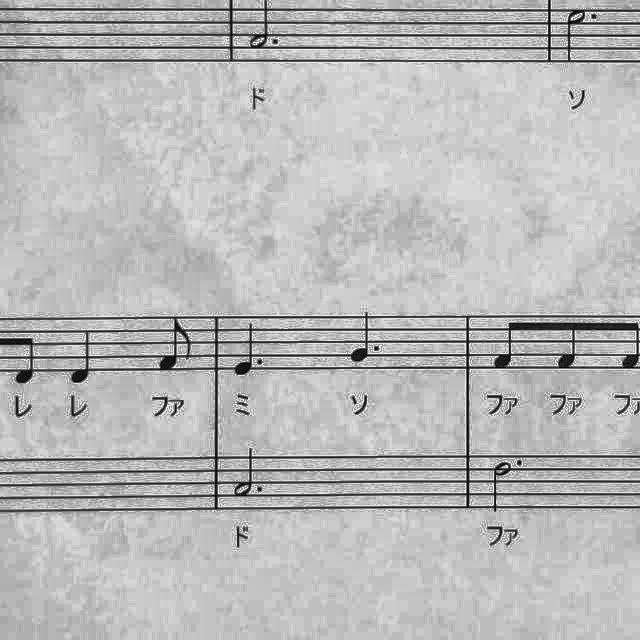Eighth-note: (154, 313, 198, 377), (7, 325, 41, 391), (488, 313, 522, 375), (553, 321, 585, 375), (616, 314, 640, 374)
Half-dot: (488, 452, 532, 518), (561, 4, 601, 68), (230, 443, 270, 501), (246, 1, 288, 52)
Quarter-dot: (342, 302, 386, 366), (227, 320, 267, 382)
Quarter-note: (64, 322, 100, 388)
